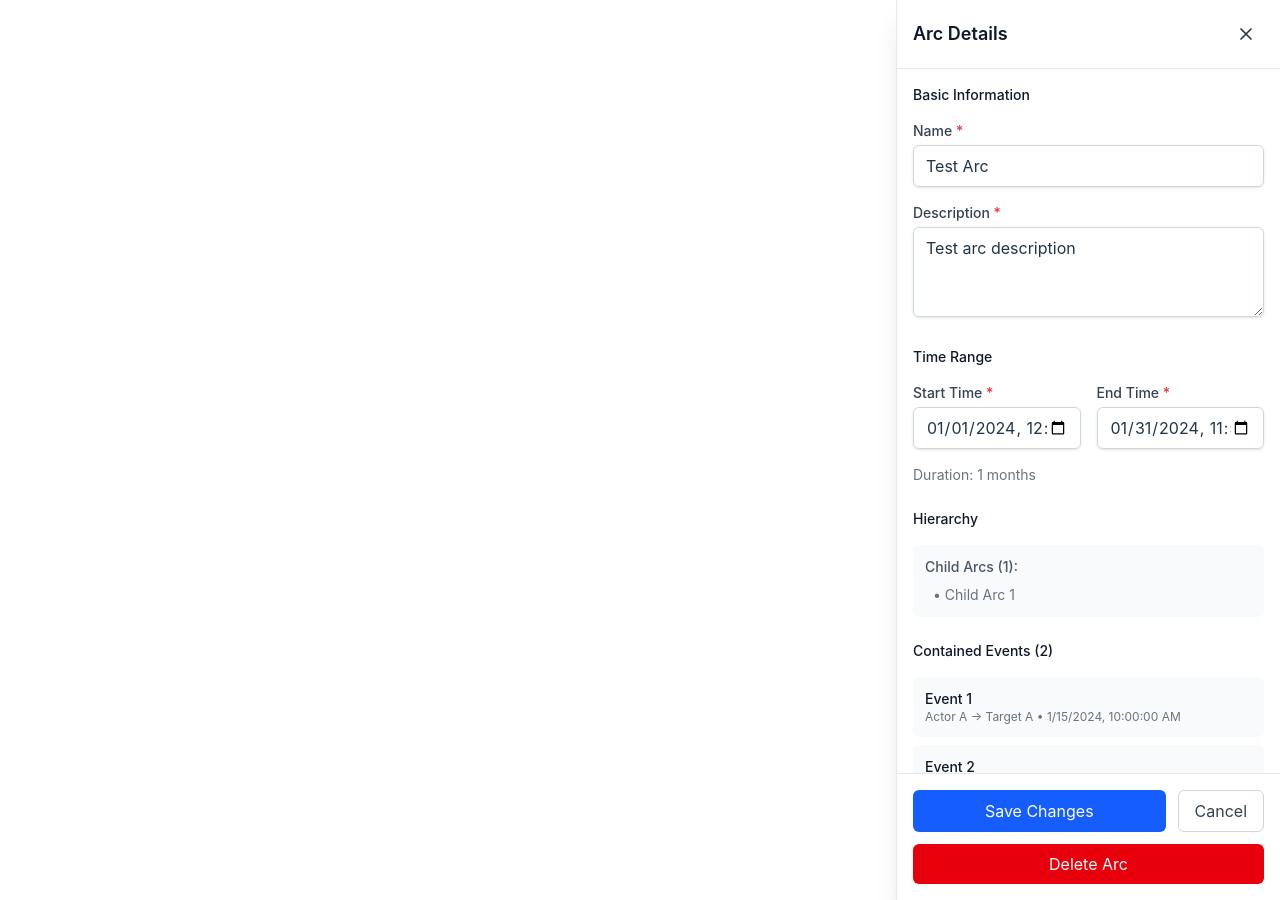
Arc Creation and Editing › ArcDetailPanel › should handle save errors
This screenshot has width=1280, height=900.
What coordinates should you click on to do the following:
click the button "Save Changes"
I would click on:
 (1039, 811)
Its box is x1=913 y1=790 x2=1166 y2=832.
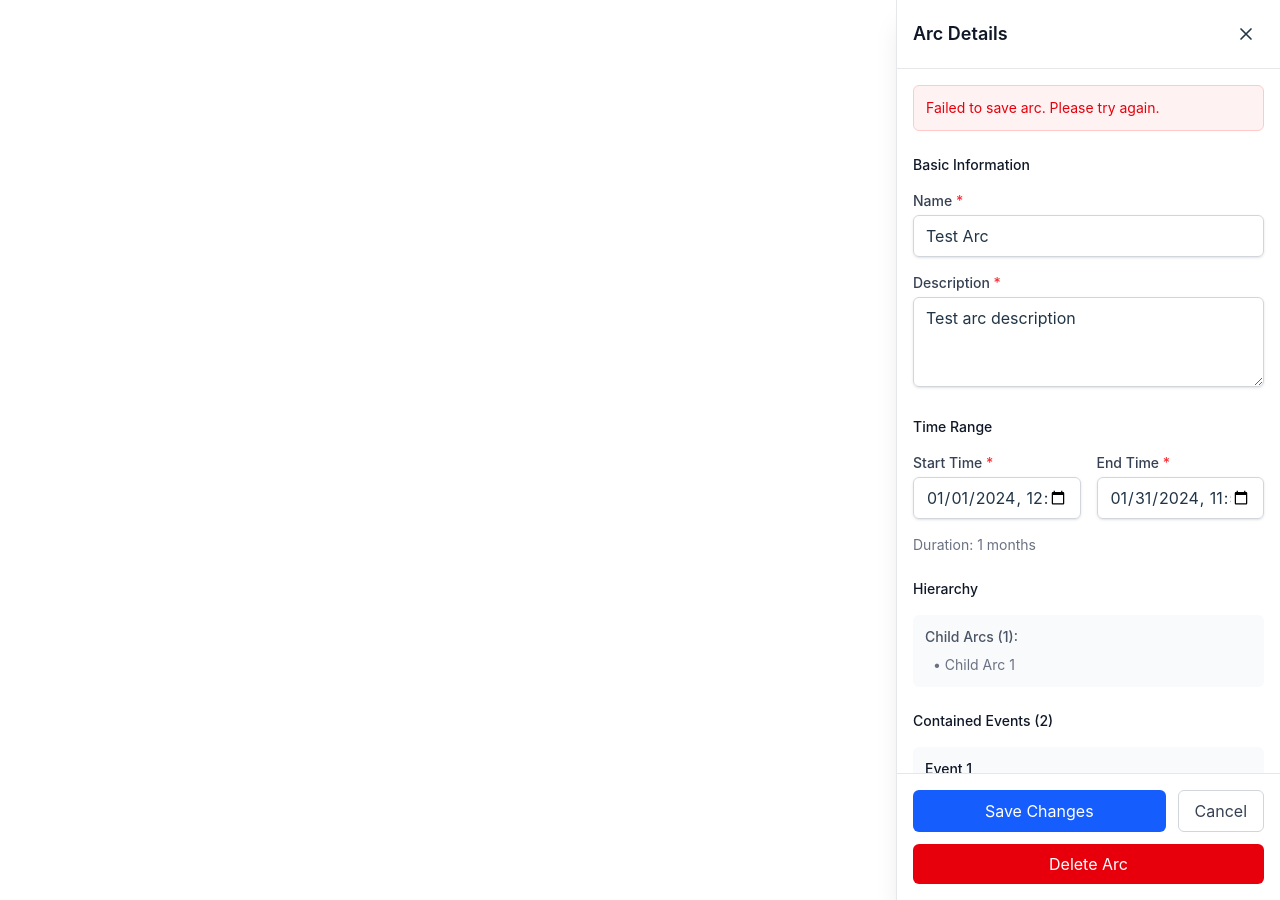
Now the text "Failed to save arc. Please try again." is shown, box x1=926 y1=99 x2=1160 y2=116
